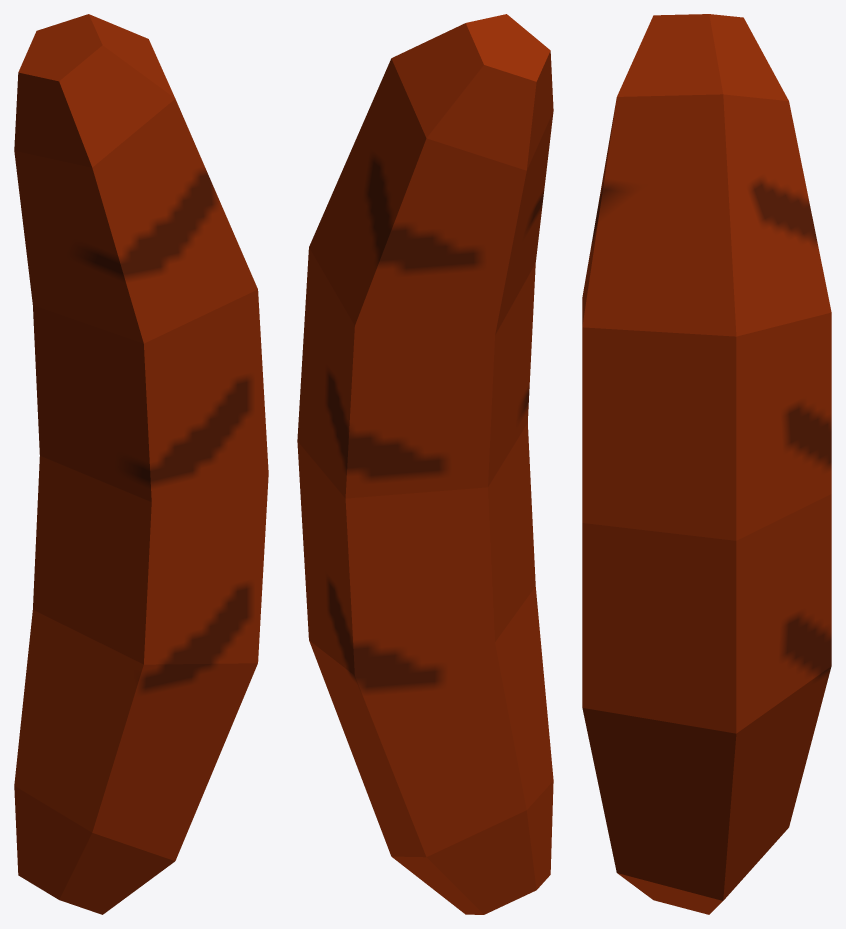
Rendered from Sausage.fbx.
3 renders of one model, left to right at view 1: azimuth 30°, elevation 25°; view 2: azimuth 150°, elevation 25°; view 3: azimuth 270°, elevation 25°, orthographic.
Parts seen in each view (by area): view 1: Cylinder.002; view 2: Cylinder.002; view 3: Cylinder.002.
Part boxes in pixels (bbox=[...]): Cylinder.002: bbox=[14, 14, 268, 914]; Cylinder.002: bbox=[297, 14, 553, 914]; Cylinder.002: bbox=[582, 14, 831, 914].
Size of the model in its own units: 48.31 by 182 by 45.71.
Materials: 1 (1 with a texture image).
